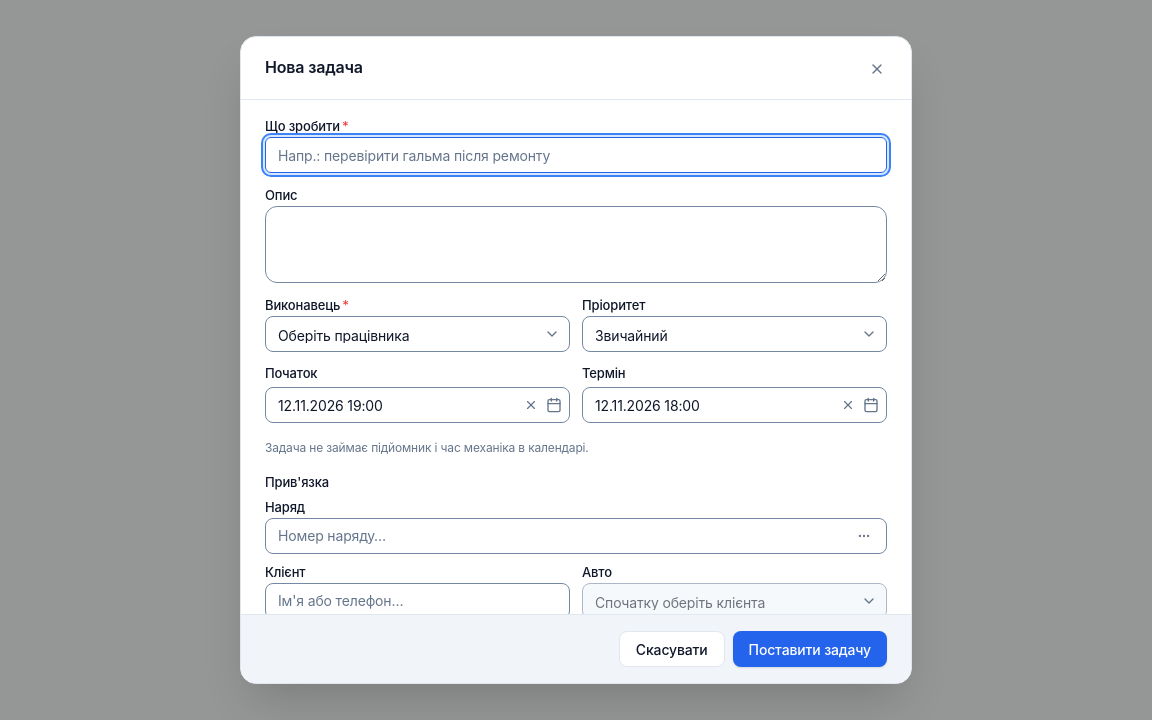
Test case: Картка задачі — керівник › помилка «термін раніше початку» знімається, коли виправили ПОЧАТОК (а не термін)
The width and height of the screenshot is (1152, 720).
Type "Замінити лампу" into the field labelled "Що зробити*" at coordinates (576, 155), box [265,137,887,173]
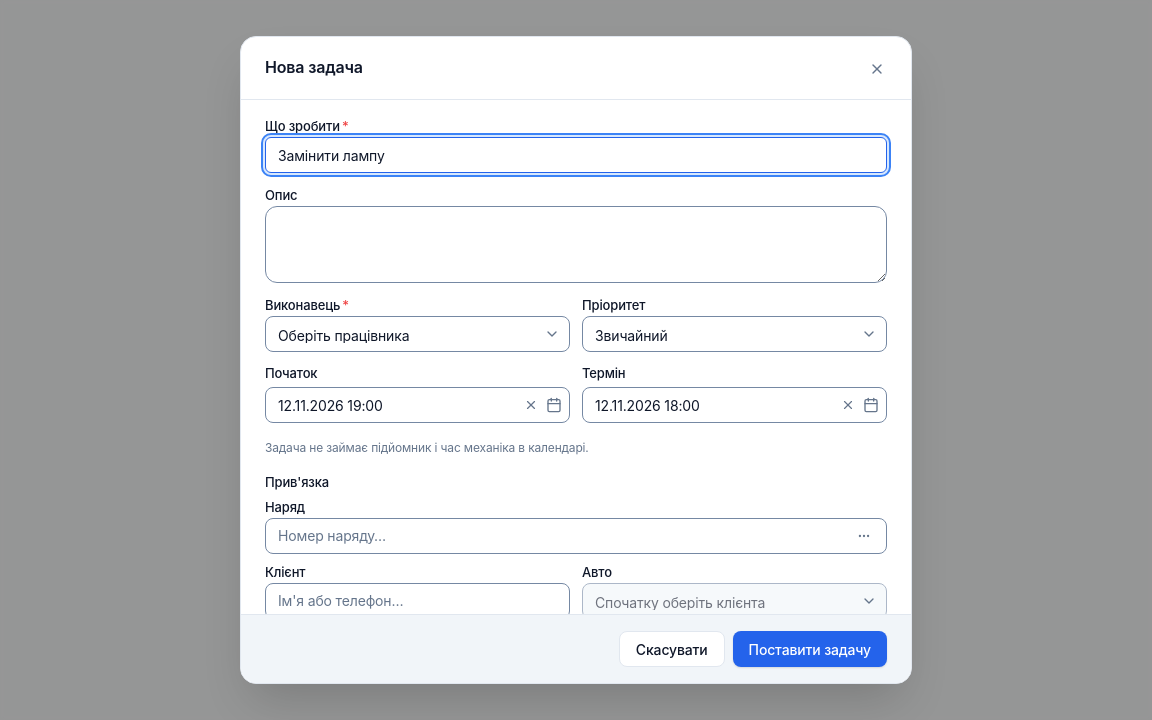
Click the button "Поставити задачу" at coordinates (810, 649), box [733,631,887,667]
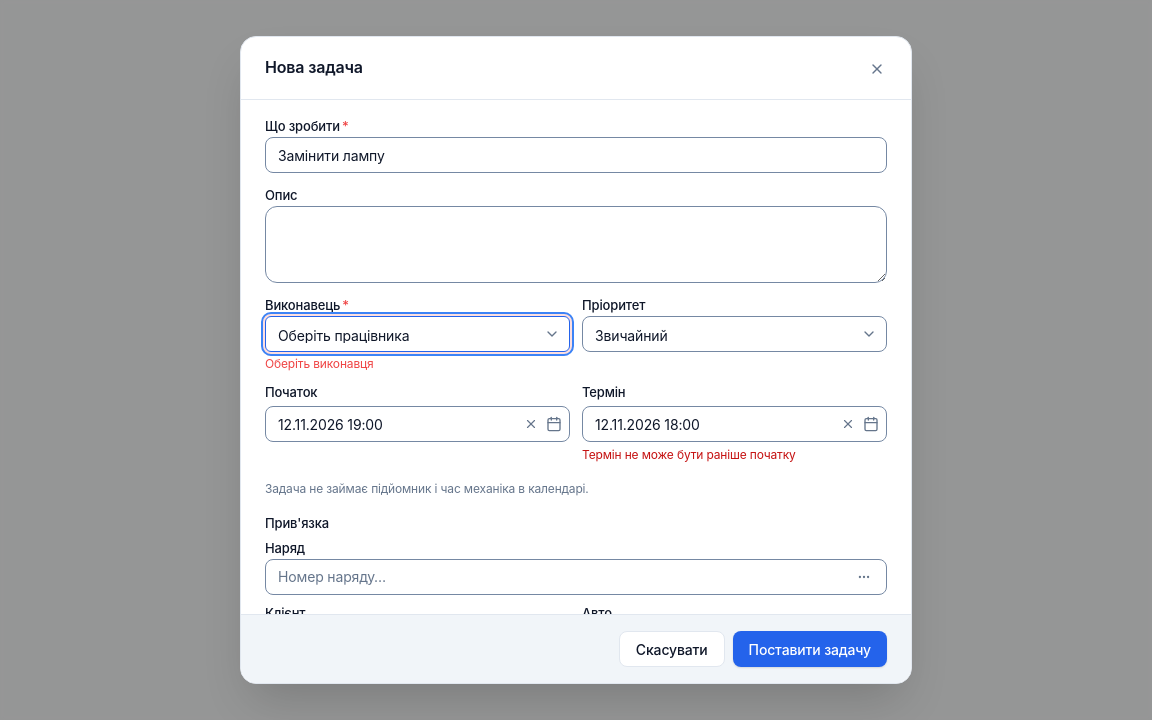
Expected: the text "Термін не може бути раніше початку" is shown, [582,447,796,462]
Click the button named "Очистити дату: Початок" at coordinates (531, 424), box [520,413,542,435]
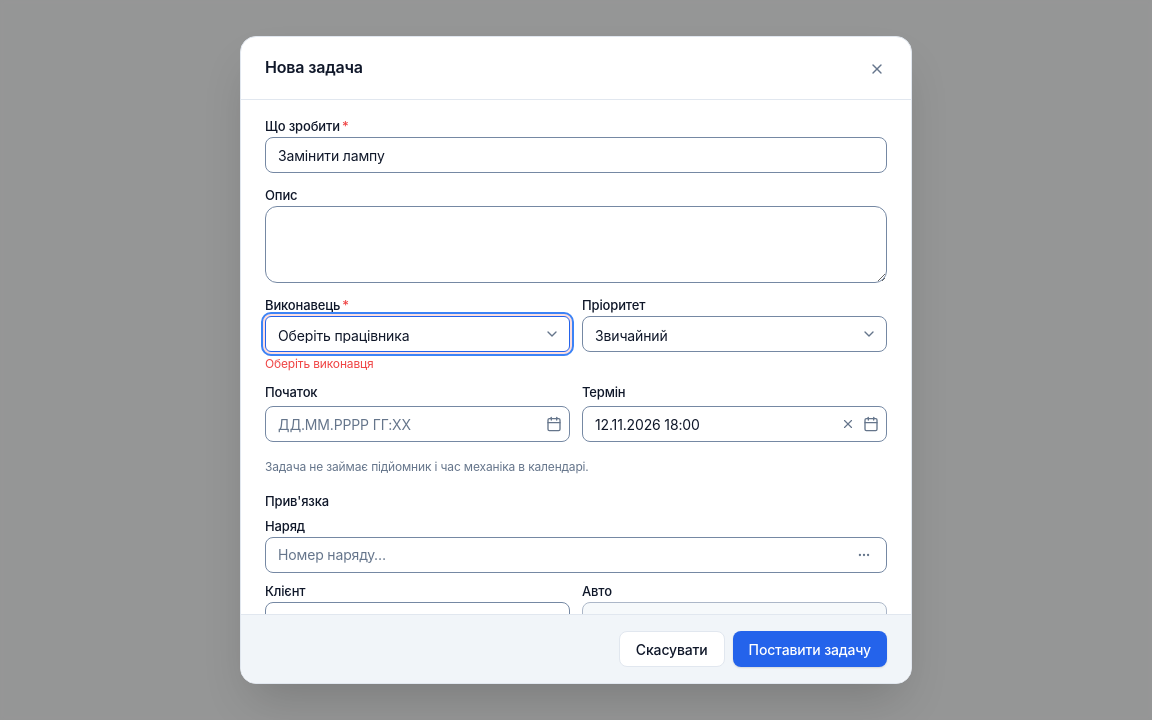
Expected: the text "Термін не може бути раніше початку" is gone
